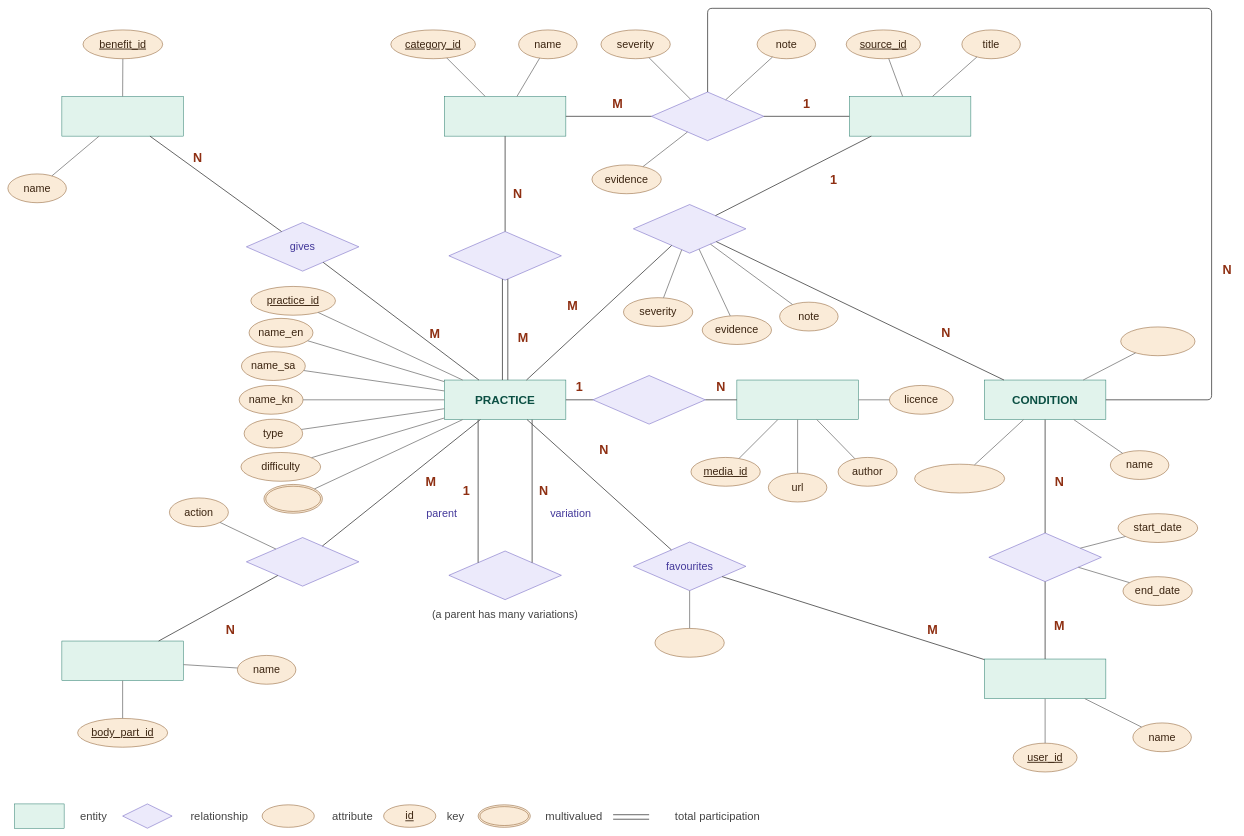
This 1244x836 diagram has some shape labels left out. Here are the shapes that lost their labels. From the top down, the box of each, then its label:
(61, 96, 183, 136): BENEFIT
(444, 96, 566, 136): CATEGORY
(651, 92, 764, 141): cat rule
(849, 96, 971, 136): SOURCE
(633, 204, 746, 253): contra
(448, 231, 561, 280): belongs to
(1120, 326, 1195, 356): cond_type
(592, 375, 705, 424): illustrated by
(736, 380, 858, 420): MEDIA
(263, 484, 322, 513): alias
(914, 464, 1005, 493): condition_id
(246, 537, 359, 586): works on
(448, 551, 561, 600): variation of
(988, 533, 1101, 582): has
(61, 641, 183, 681): BODY_PART
(655, 628, 724, 657): added_at
(984, 659, 1106, 699): USER
